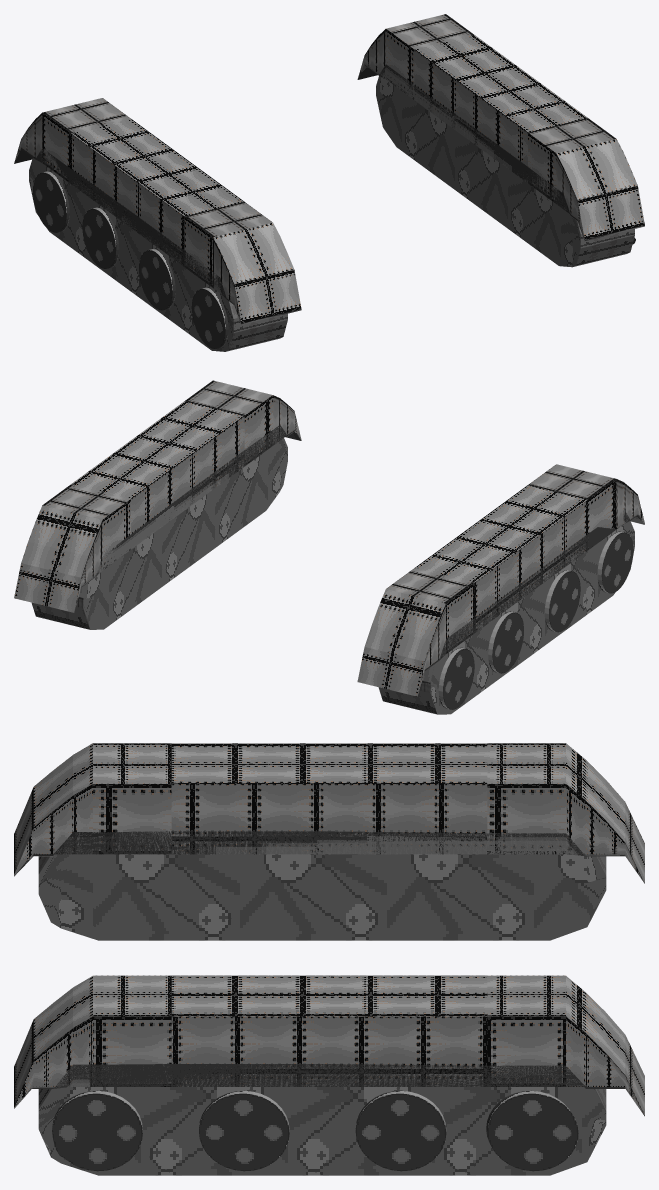
Rendered from TankTracks-01.fbx.
The picture shows the model from 3 angles, top to bottom: view 1: azimuth 30°, elevation 25°; view 2: azimuth 150°, elevation 25°; view 3: azimuth 270°, elevation 25°; orthographic projection. The views are drawn at different scales.
Visible parts, largest first — view 1: Cube; view 2: Cube; view 3: Cube.
Boxes of the visible parts, left/top/right/bottom form: Cube: left=14, top=14, right=644, bottom=351; Cube: left=14, top=380, right=644, bottom=714; Cube: left=14, top=743, right=644, bottom=1175.
Bounding box in the file's own units: 104 × 27.7 × 99.01.
